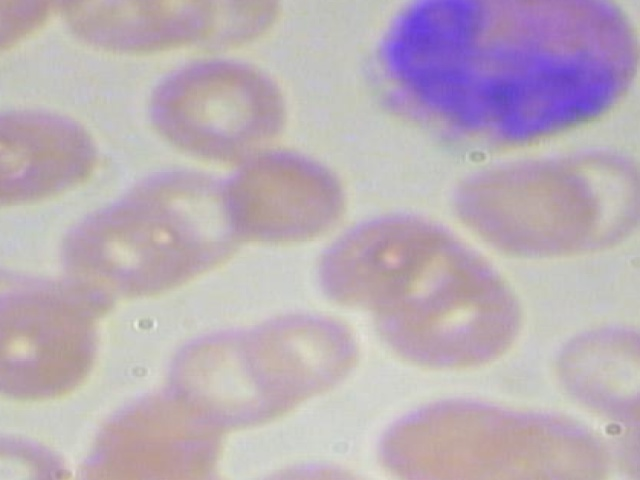RBC: (441, 149, 615, 259), (133, 49, 303, 161), (153, 322, 326, 432), (208, 146, 363, 253), (0, 102, 123, 210), (0, 291, 107, 400), (542, 310, 640, 417), (0, 0, 48, 82)
WBC: (342, 0, 640, 161)
